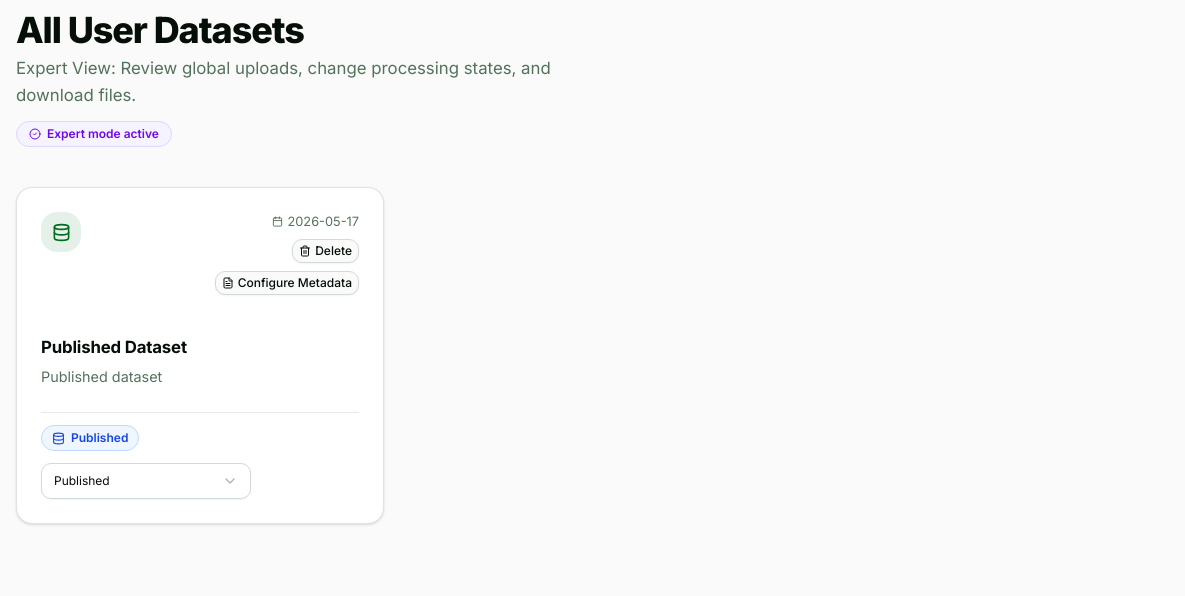
Test: MyDatasetsPage › keeps the dataset card visible when an expert status update fails
Expected: the heading "Published Dataset" is shown, 41,337 -> 187,357
Click the dropdown. click: (146, 481)
box: 41,463 -> 251,499
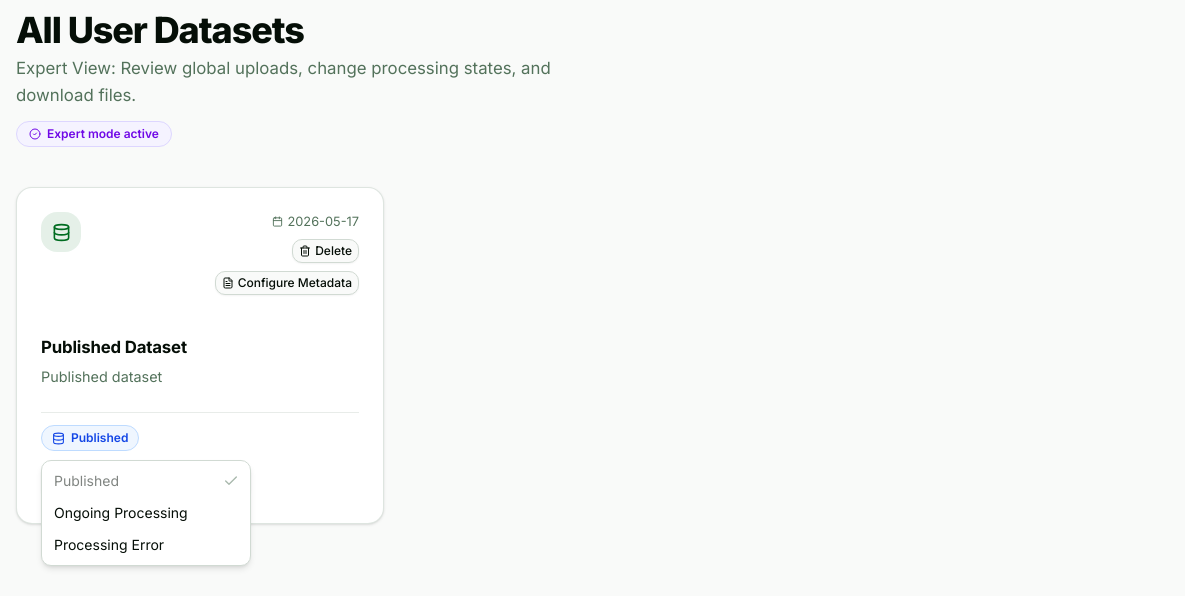
Click the option "Processing Error". click: (109, 545)
box: 54,536 -> 164,553
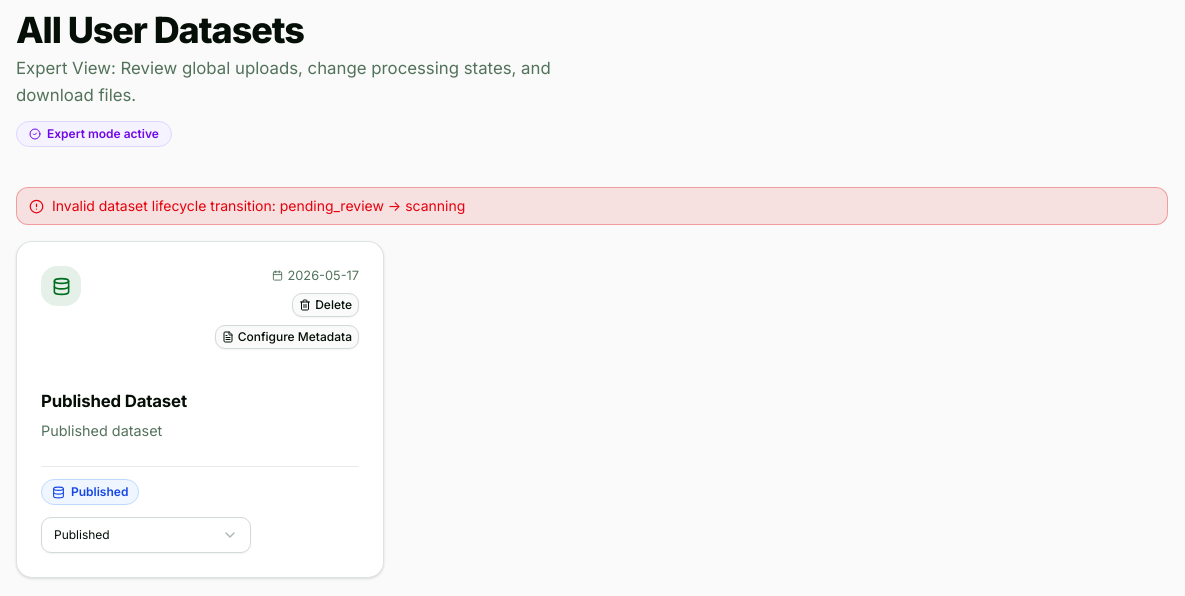
Expected: the heading "Published Dataset" is shown, 41,391 -> 187,411
Result: the text "Invalid dataset lifecycle transition: pending_review -> scanning" is shown at 52,196 -> 465,216
